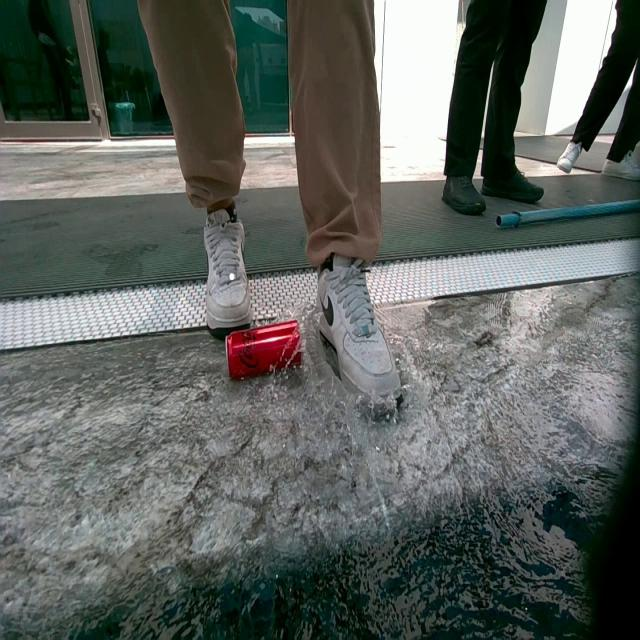Cans: (225, 320, 302, 384)
